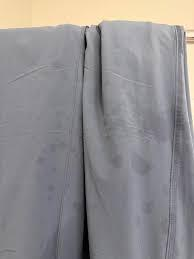mustard: (35, 142, 80, 163), (129, 149, 158, 178), (39, 179, 58, 205), (138, 195, 159, 215), (44, 162, 64, 178)
